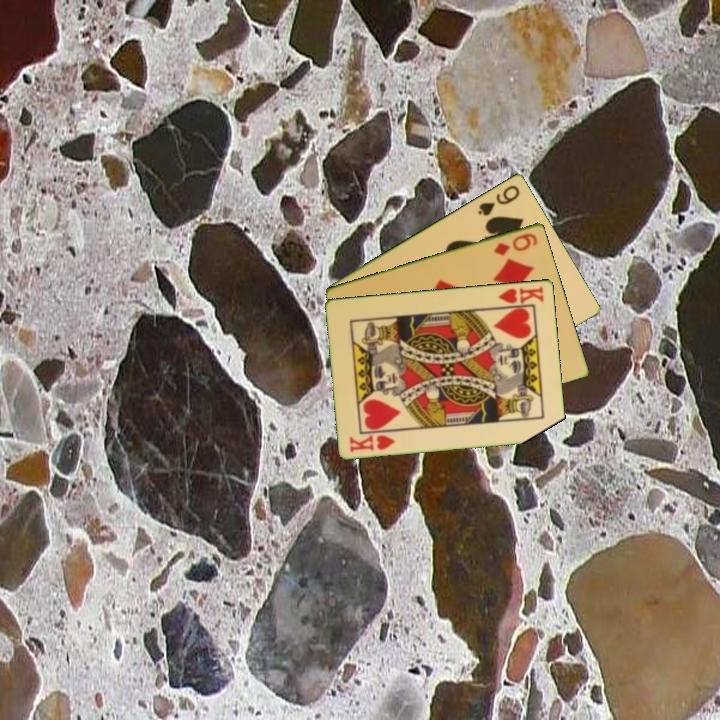6d: (490, 229, 541, 258)
9s: (474, 181, 523, 219)
Kh: (492, 282, 547, 310), (346, 431, 399, 455)
